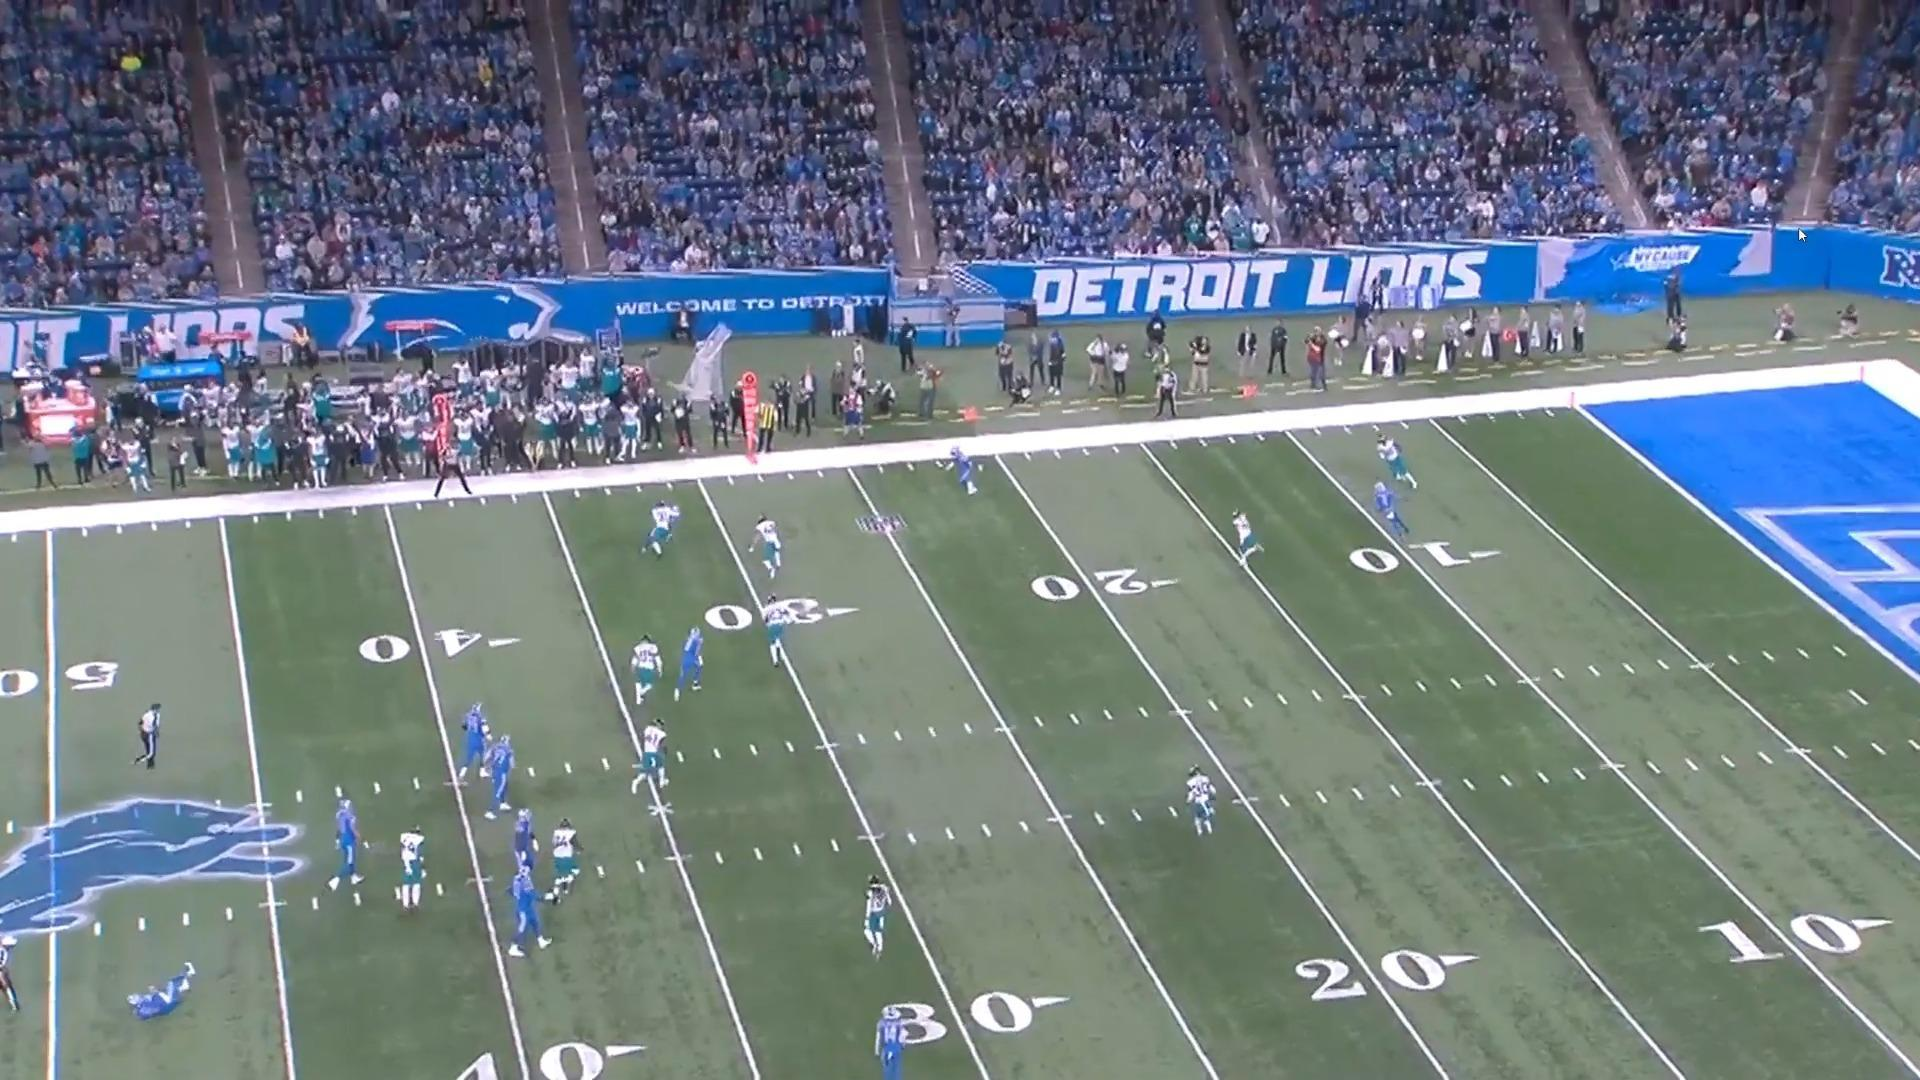10R: (1696, 914, 1895, 965), (1348, 539, 1503, 574)
20R: (1294, 948, 1481, 1001), (1031, 567, 1182, 601)
30R: (880, 990, 1072, 1046), (703, 596, 861, 630)
40R: (458, 1039, 647, 1080), (357, 628, 522, 666)
50: (0, 659, 117, 698)
